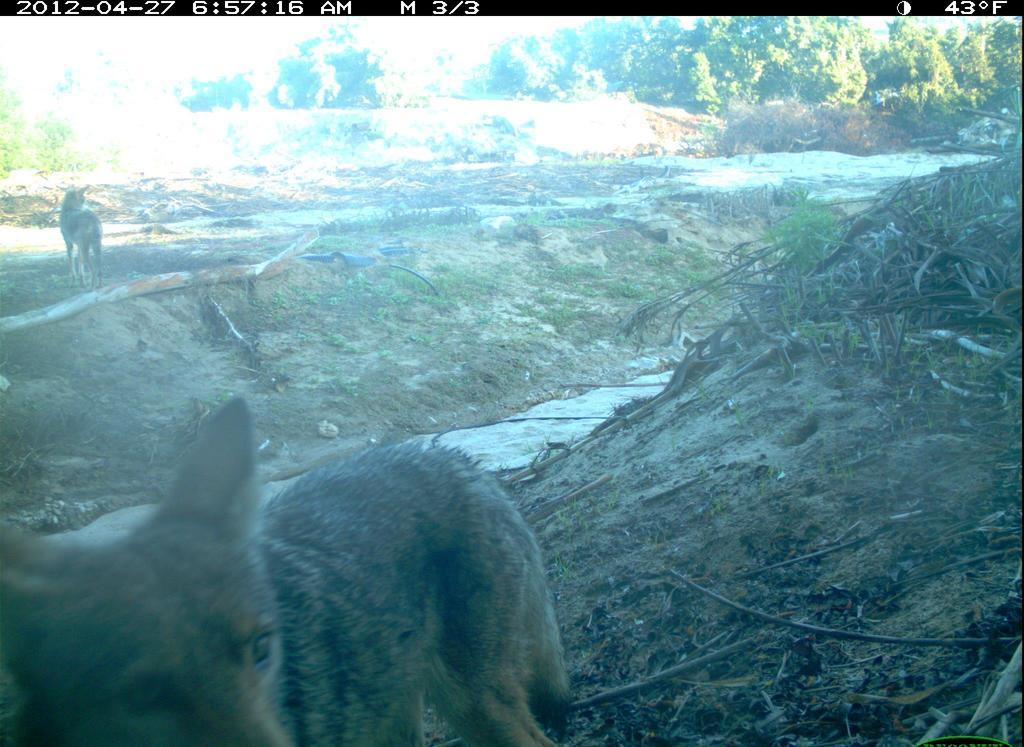coyote: (3, 385, 582, 747), (50, 184, 125, 292)
